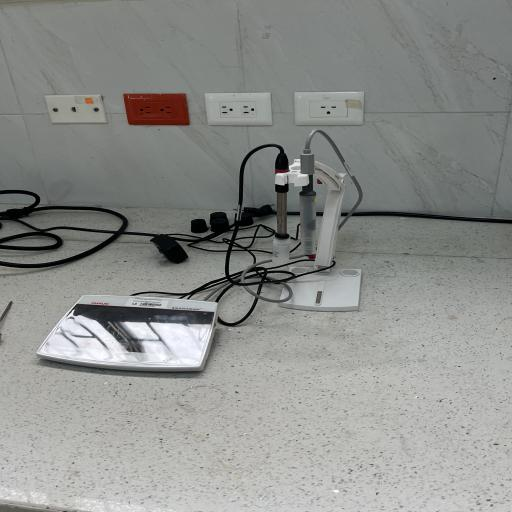Phmetro_Ohaus: (30, 286, 228, 385)
